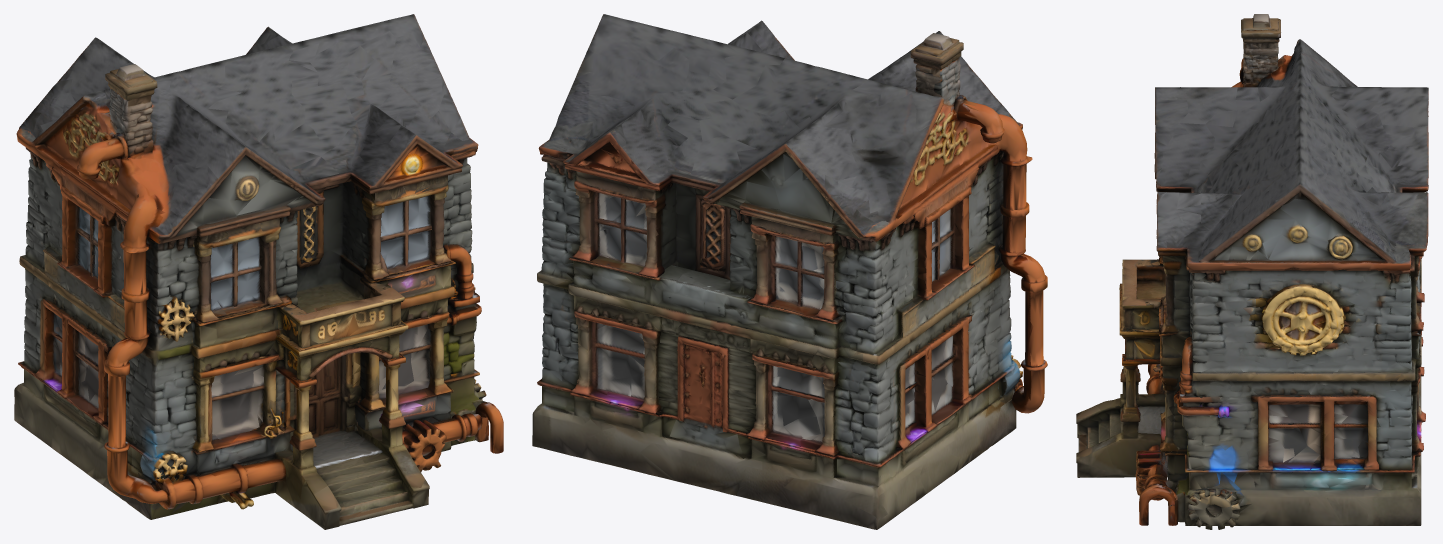
File: steamhouse.fbx
The picture shows the model from 3 angles, left to right: view 1: azimuth 30°, elevation 25°; view 2: azimuth 150°, elevation 25°; view 3: azimuth 270°, elevation 25°; orthographic projection. The views are drawn at different scales.
Visible parts, largest first — view 1: Mesh_0; view 2: Mesh_0; view 3: Mesh_0.
Boxes of the visible parts, bbox=[...] form: Mesh_0: bbox=[14, 14, 503, 529]; Mesh_0: bbox=[532, 14, 1047, 529]; Mesh_0: bbox=[1076, 14, 1428, 529].
Size of the model in its own units: 186 by 190 by 163.
